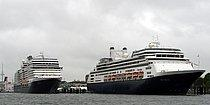Ship: (82, 39, 208, 99), (13, 51, 65, 97)
